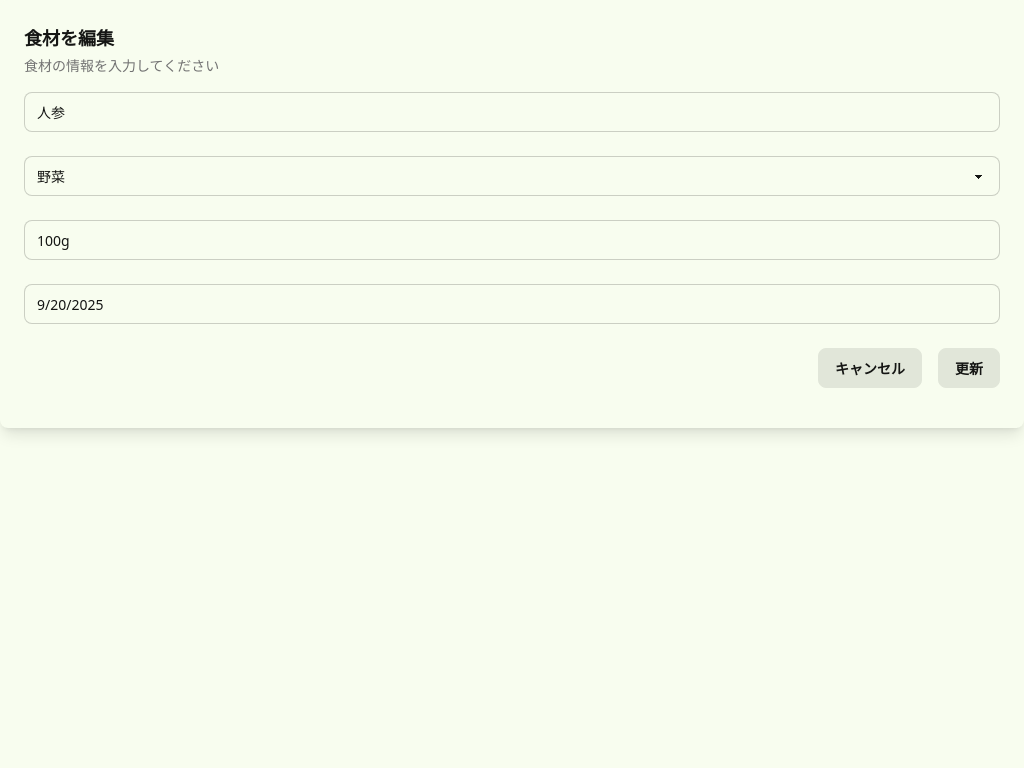
Test: EditFridgeItemForm › 正常系 › 入力フィールドが正しく更新されること
The image size is (1024, 768).
Replace the text in the 1st field with placeholder "食材名" with "牛肉" at coordinates (512, 112), box [24,92,1000,132]
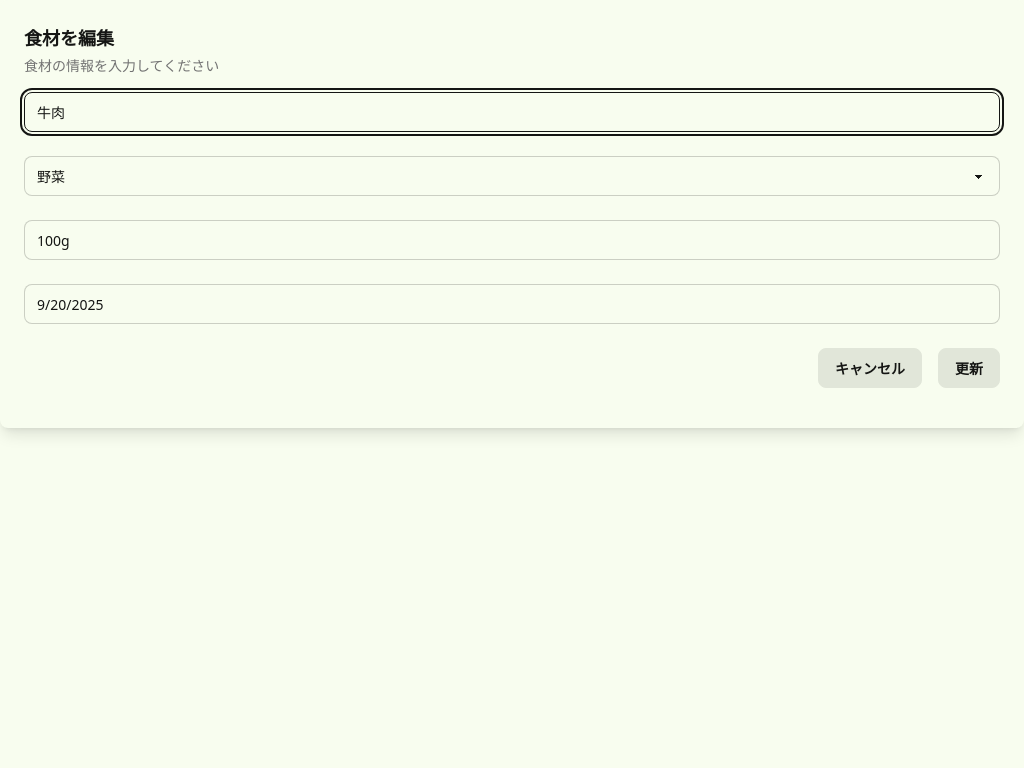
Select "肉類" in the dropdown at coordinates (512, 176), box [24,156,1000,196]
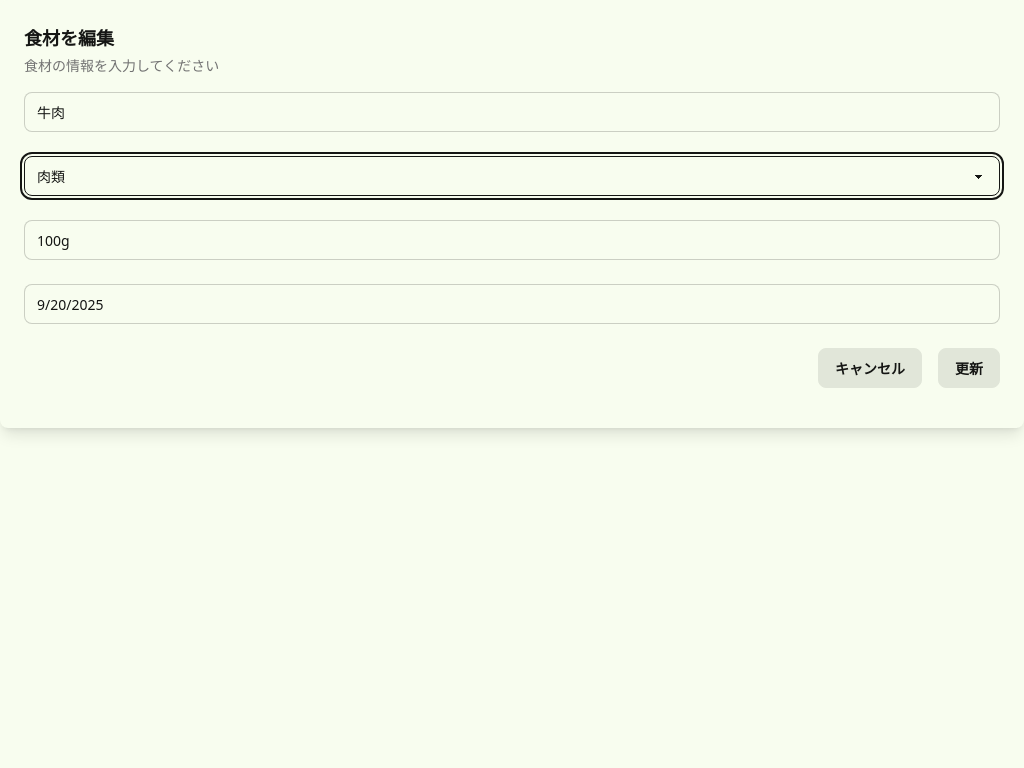
Replace the text in the 2nd field with placeholder "数量" with "500g" at coordinates (512, 240), box [24,220,1000,260]
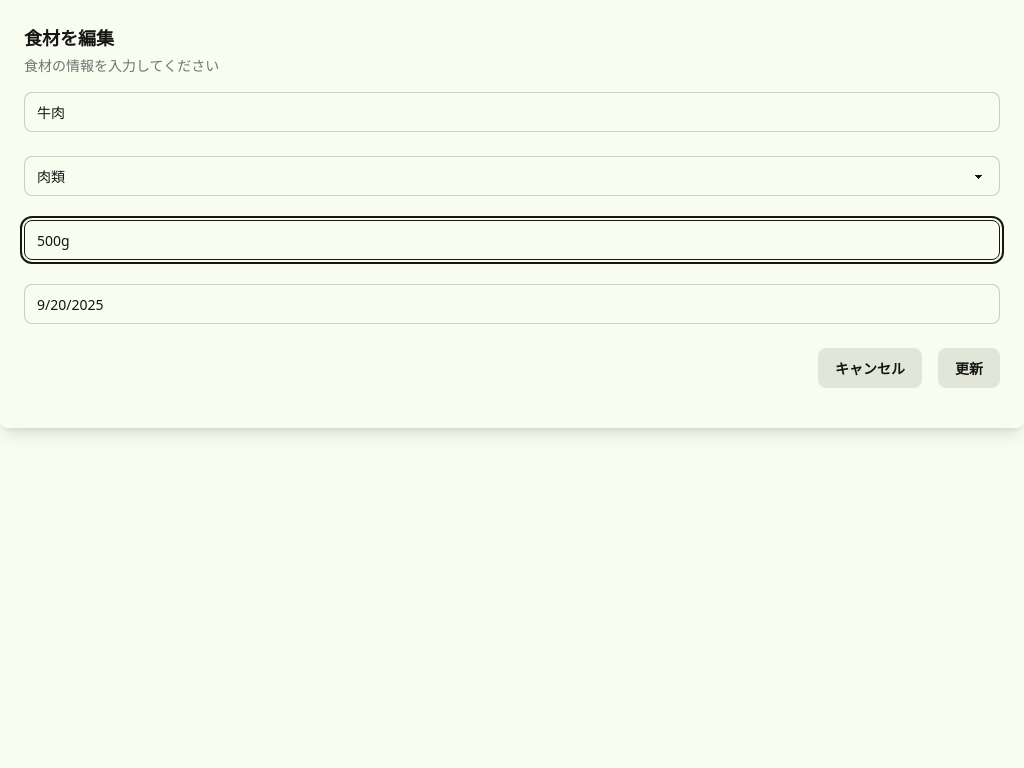
Click the button "9/20/2025" at coordinates (70, 304), box [24,284,1000,324]
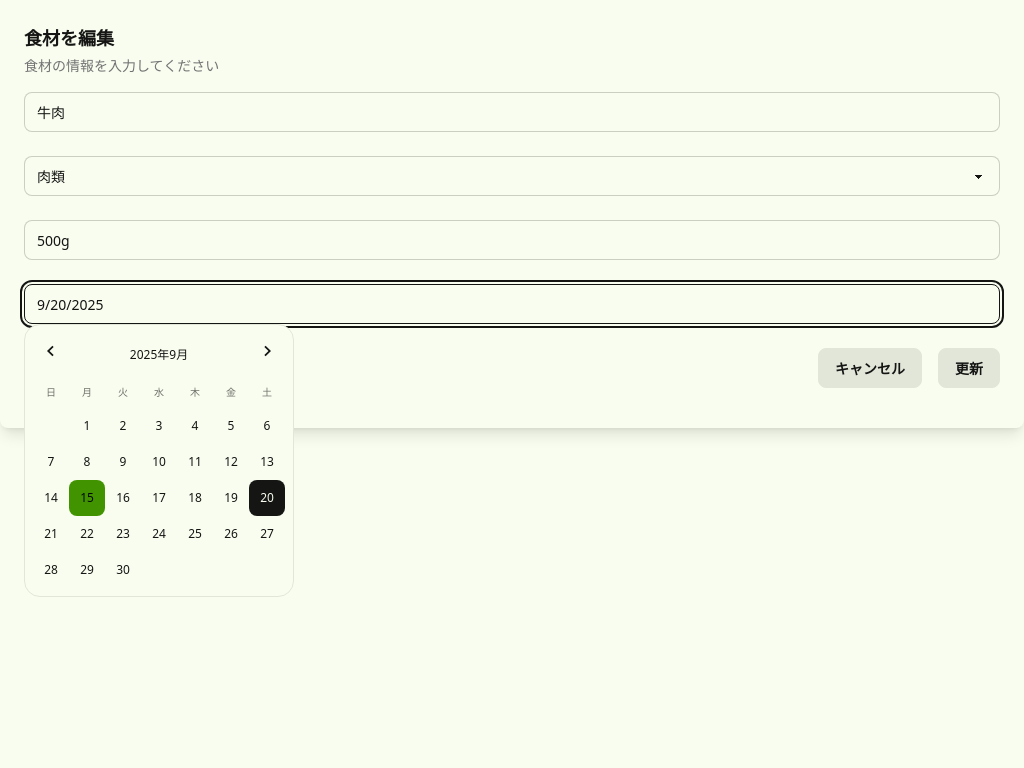
Now the table is shown, box [33,377,285,588]
Click the button named "2025年9月25日木曜日" at coordinates (195, 534), box [177,516,213,552]
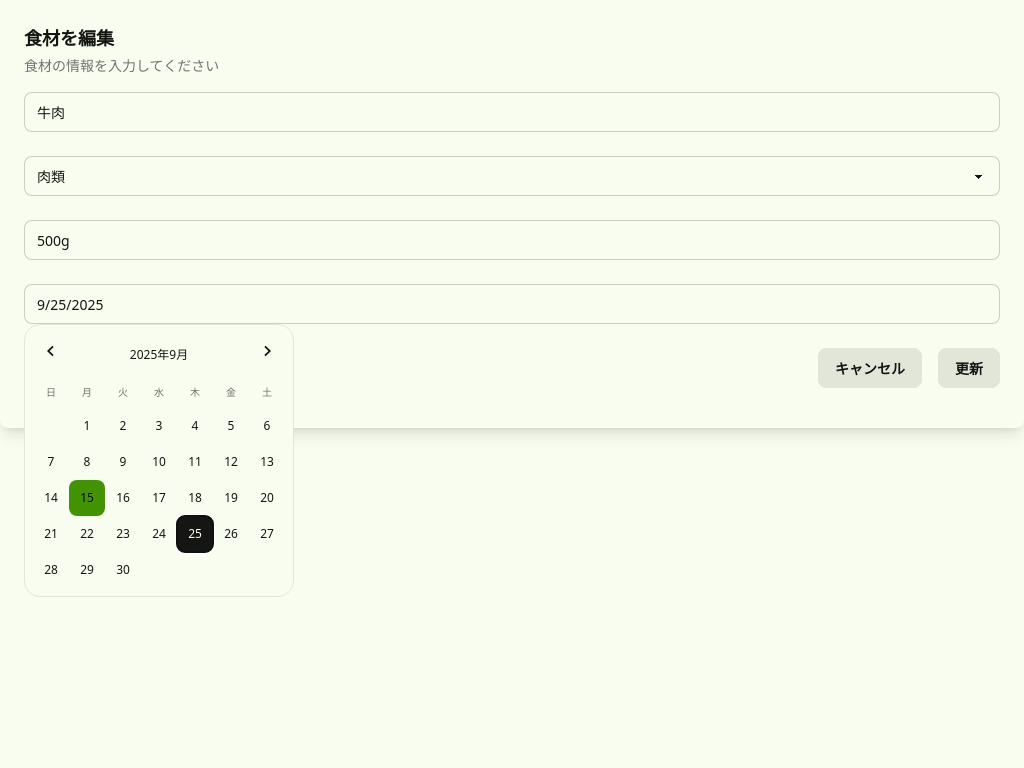
Now the button "9/25/2025" is shown, box [24,284,1000,324]
